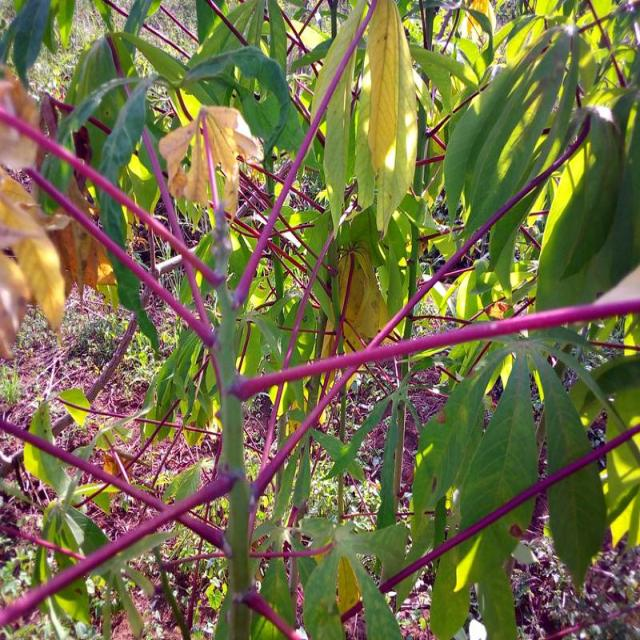cassava leaf: (2, 0, 640, 638), (444, 22, 577, 286), (534, 85, 640, 335), (365, 0, 420, 237)
